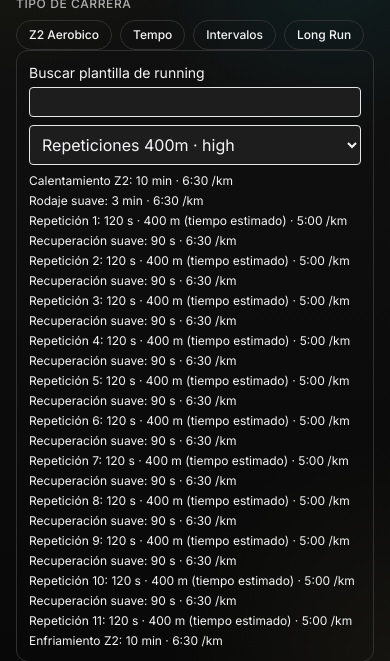
una sesión realizada no puede borrar la receta para eludir el bloqueo de duración
This screenshot has width=390, height=661.
Select "Sesión personalizada" in the dropdown named "Plantilla de running". click: (195, 145)
box: [29,125,361,165]
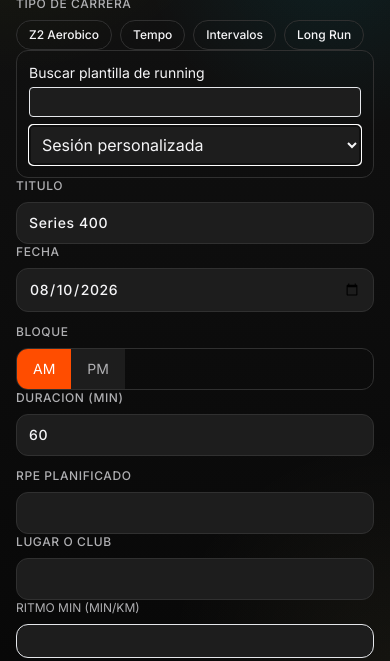
Replace the text in the number field labelled "Duracion (min)" with "45". click: (195, 435)
box: [16,414,374,456]
(page scrolled)
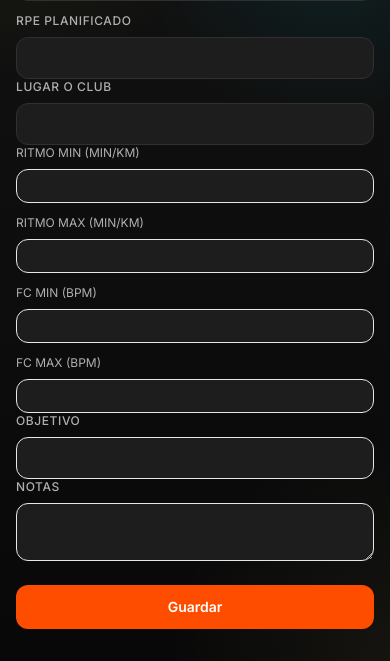
Click the button "Guardar". click: (195, 607)
box: [16,585,374,629]
(page scrolled)
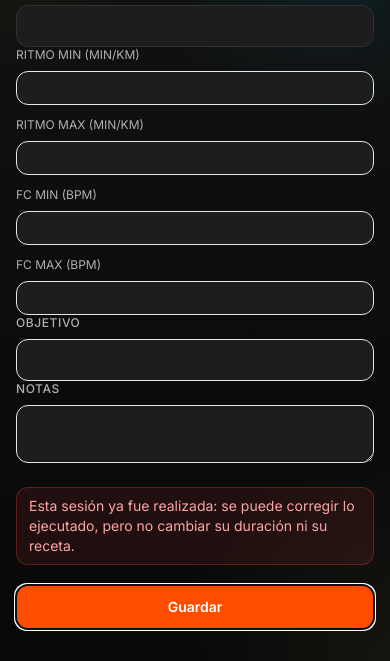
expect the message shows "ya fue realizada": met, box [29,497,355,554]
